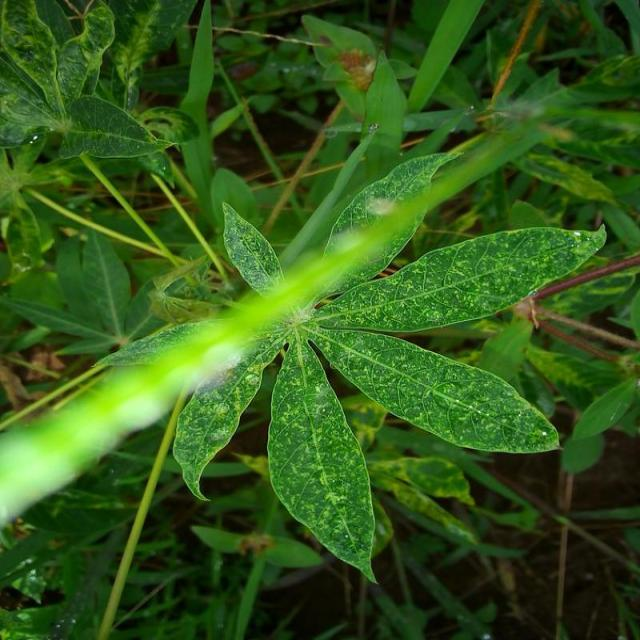cassava leaf: (3, 136, 607, 584), (267, 333, 379, 584)
